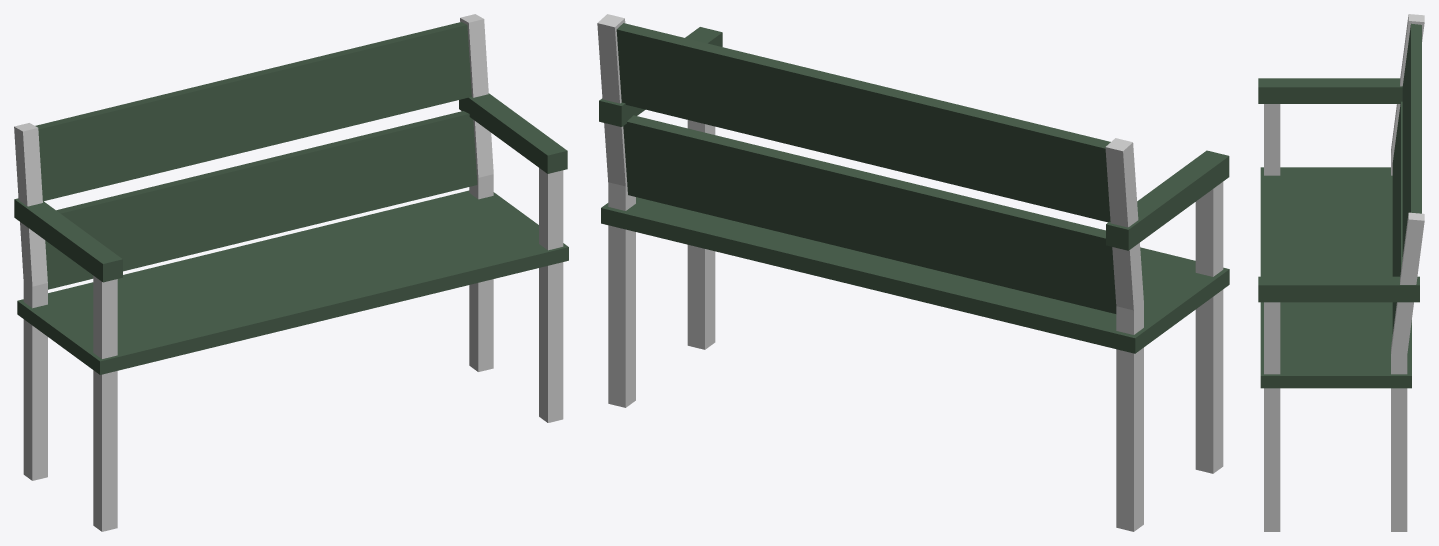
The model's file is Bench.glb.
The picture shows the model from 3 angles, left to right: view 1: azimuth 30°, elevation 25°; view 2: azimuth 150°, elevation 25°; view 3: azimuth 270°, elevation 25°; orthographic projection. The views are drawn at different scales.
Parts seen in each view (by area): view 1: Cube_153; view 2: Cube_153; view 3: Cube_153.
Part boxes in pixels (box(x1,y1,x2,y2)): Cube_153: box(14, 14, 568, 531); Cube_153: box(597, 14, 1229, 531); Cube_153: box(1258, 14, 1424, 531).
Bounding box in the file's own units: 1.77 × 1.23 × 0.5949.
Materials: 1 (1 with a texture image).
